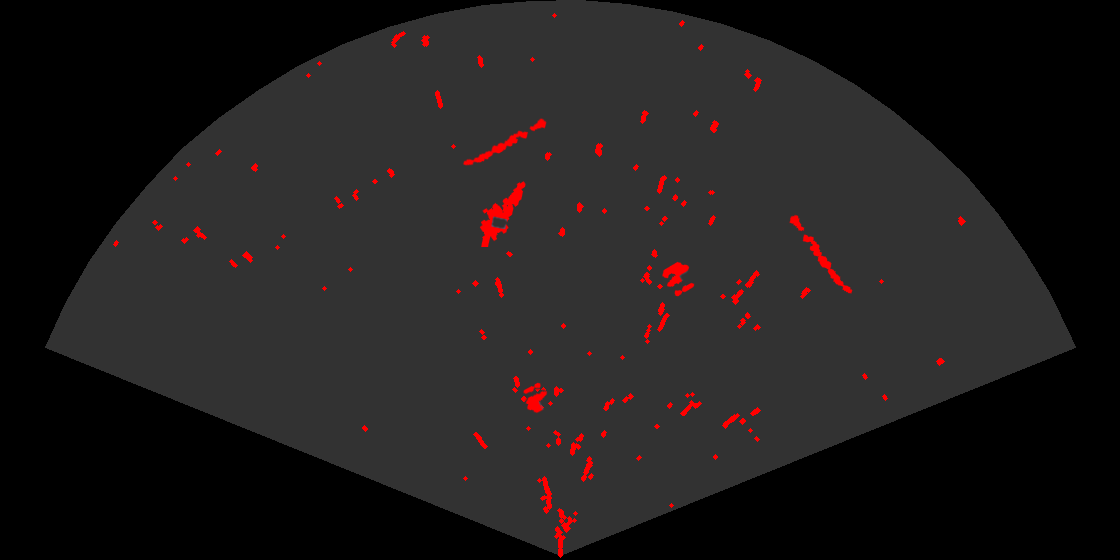ball: (661, 260, 696, 298), (522, 381, 549, 415)
chain: (788, 213, 854, 295), (461, 117, 549, 167)
frogman: (478, 180, 527, 247)
